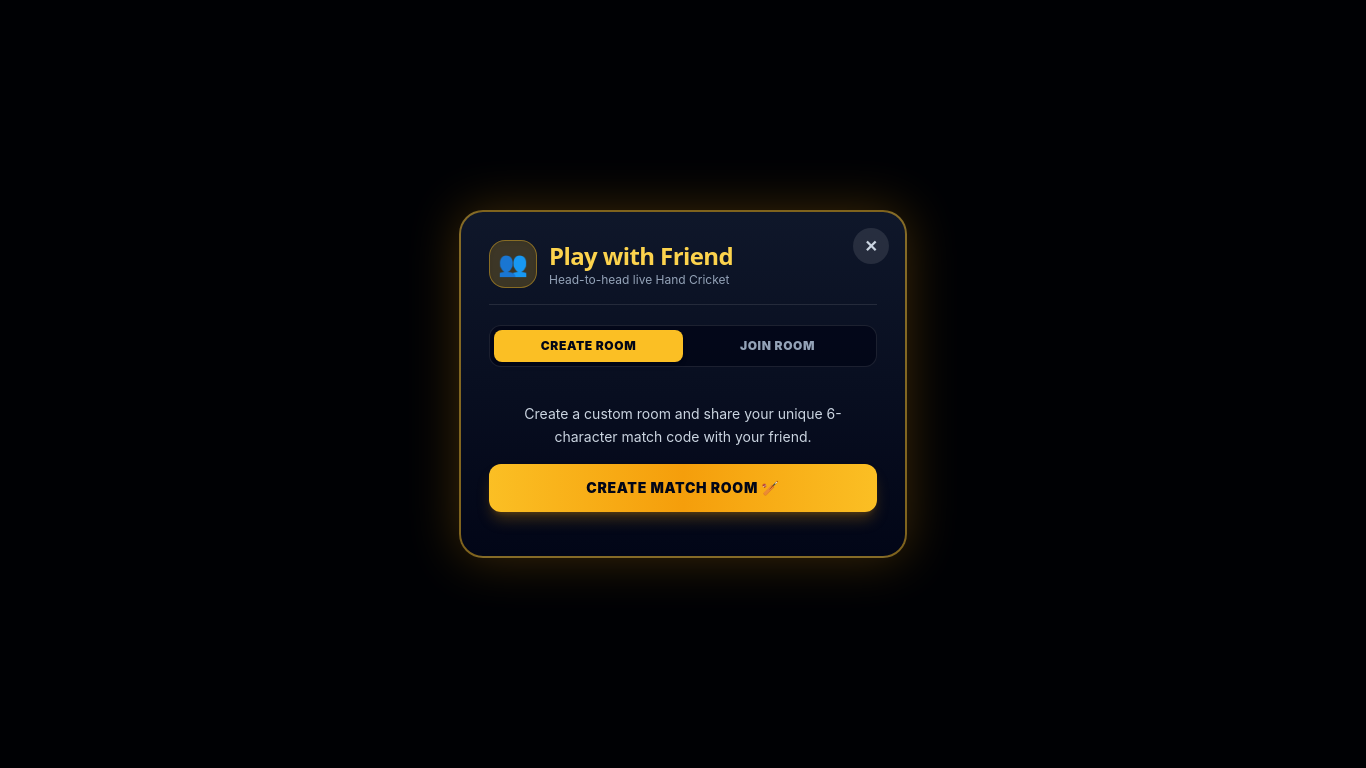
it: Friend Mode Frontend Tests (Sub-slice 15E) › 2. Friend Lobby Modal › displays error message when room is full or not found
Click the button "Join Room". click: (778, 346)
box: x1=683 y1=330 x2=872 y2=362
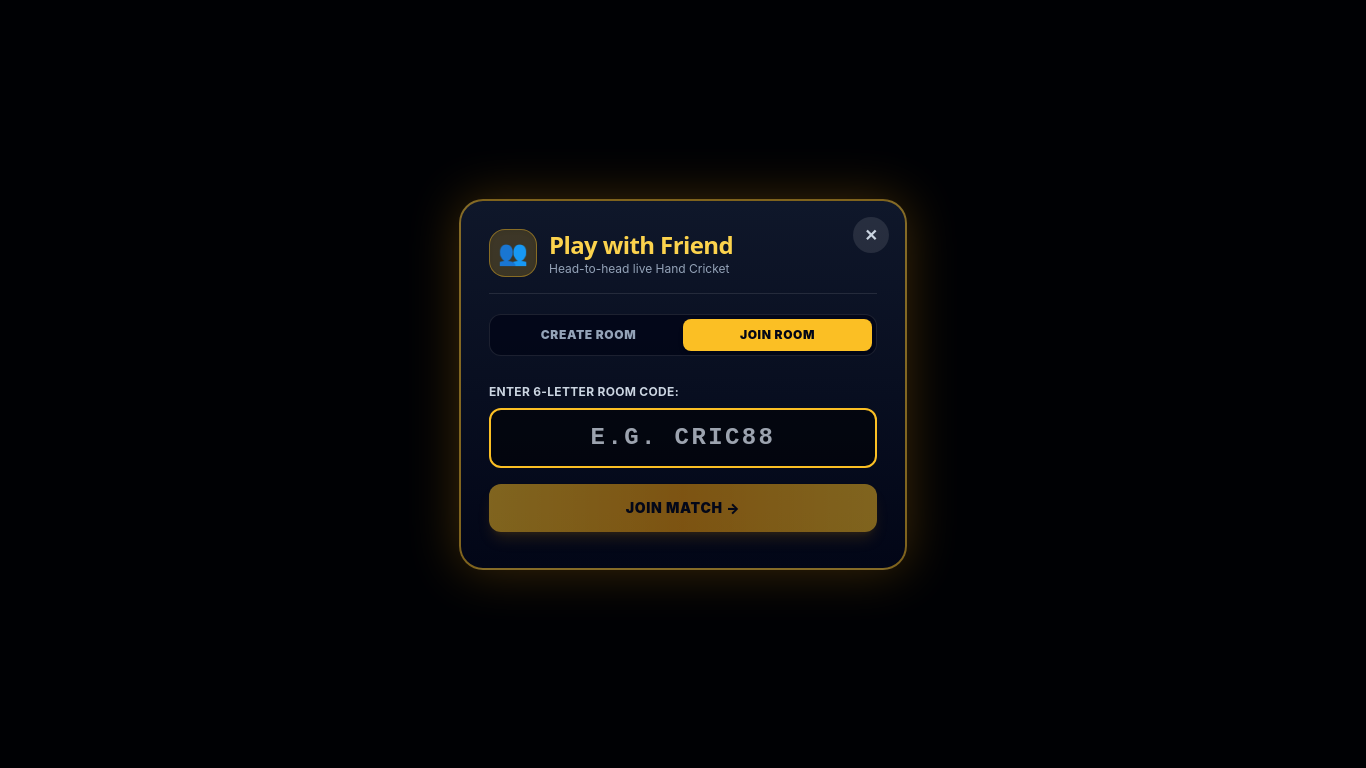
Type "FULL99" into the field with placeholder "e.g. CRIC88". click: (683, 438)
box: x1=489 y1=408 x2=877 y2=468
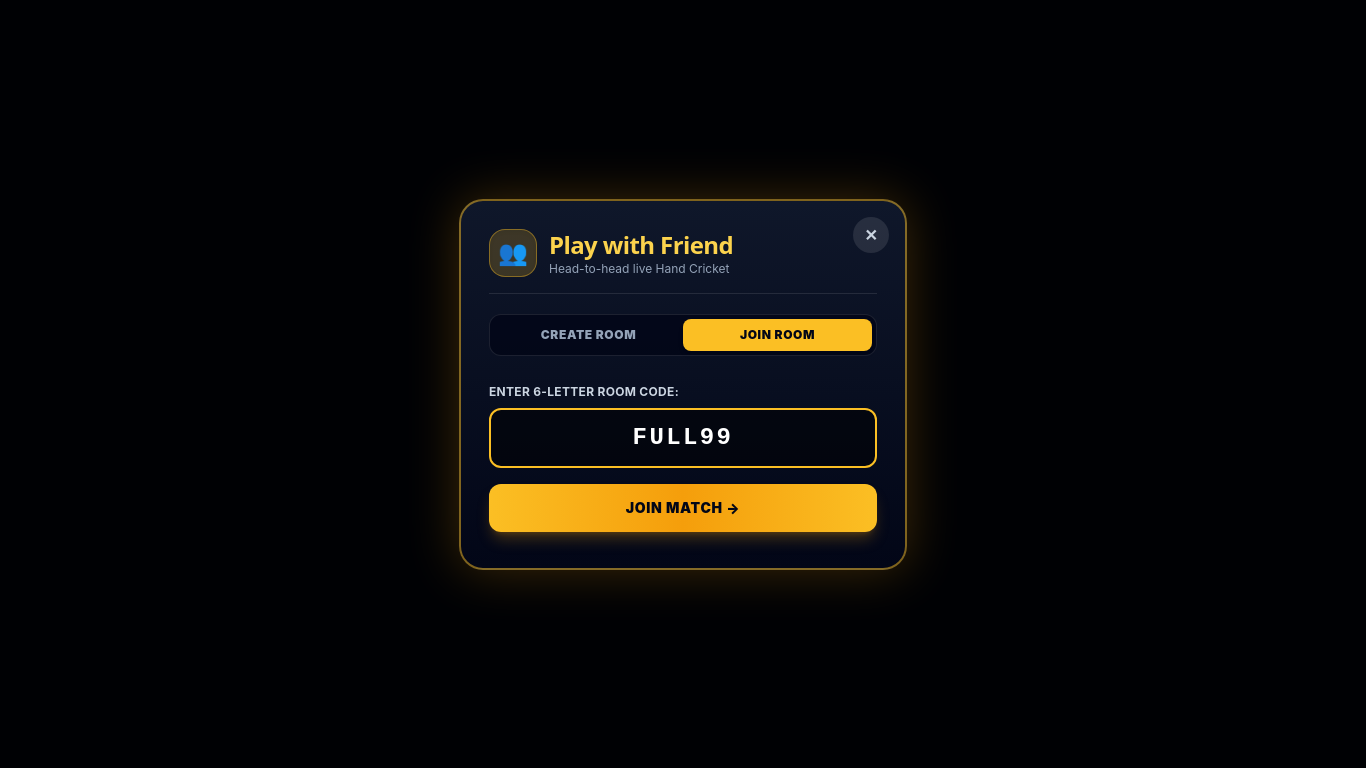
Click the button "JOIN MATCH →". click: (683, 508)
box: x1=489 y1=484 x2=877 y2=532
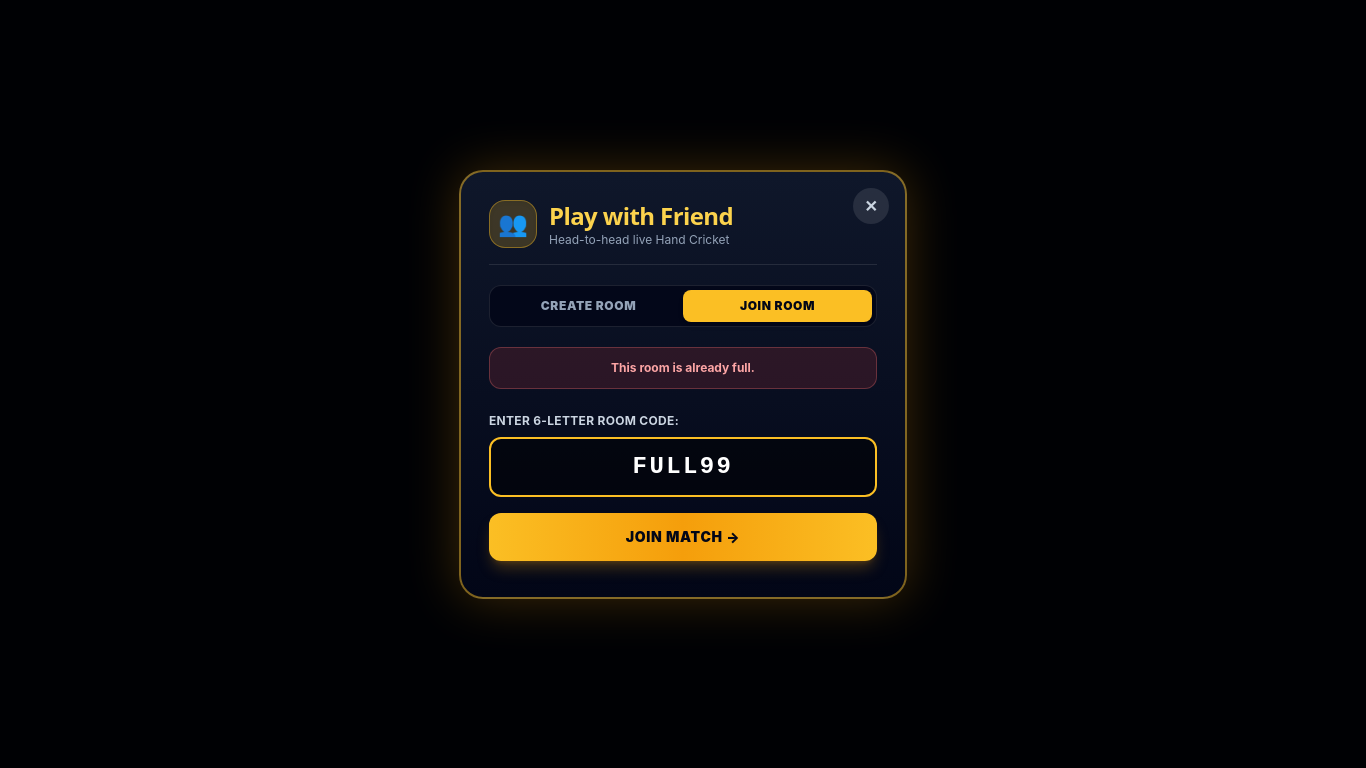
Check: the text "This room is already full." is shown, box x1=489 y1=346 x2=877 y2=388
